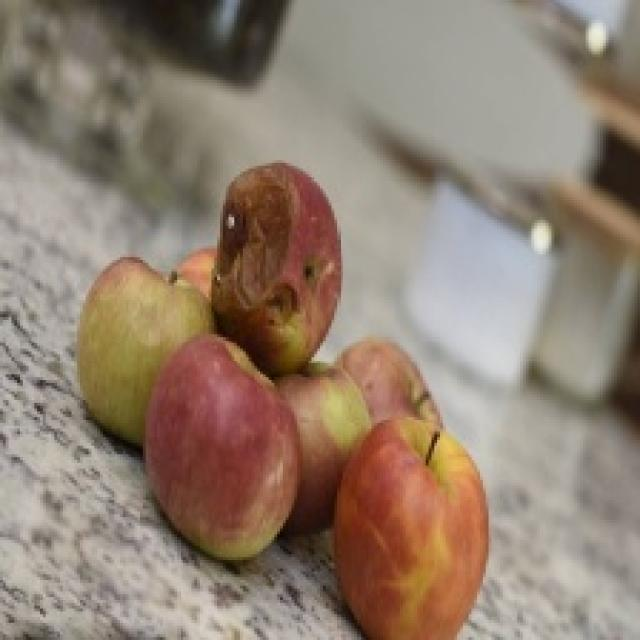rotten_apple: (212, 164, 341, 366)
